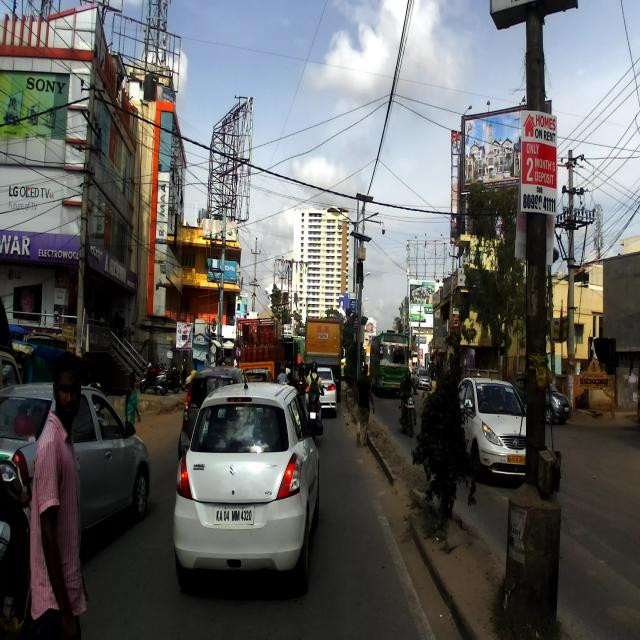Car_Maruti-Suzuki: (175, 384, 322, 600)
Car_TATA: (456, 377, 527, 482)
Car_Toyota: (0, 381, 151, 535)
